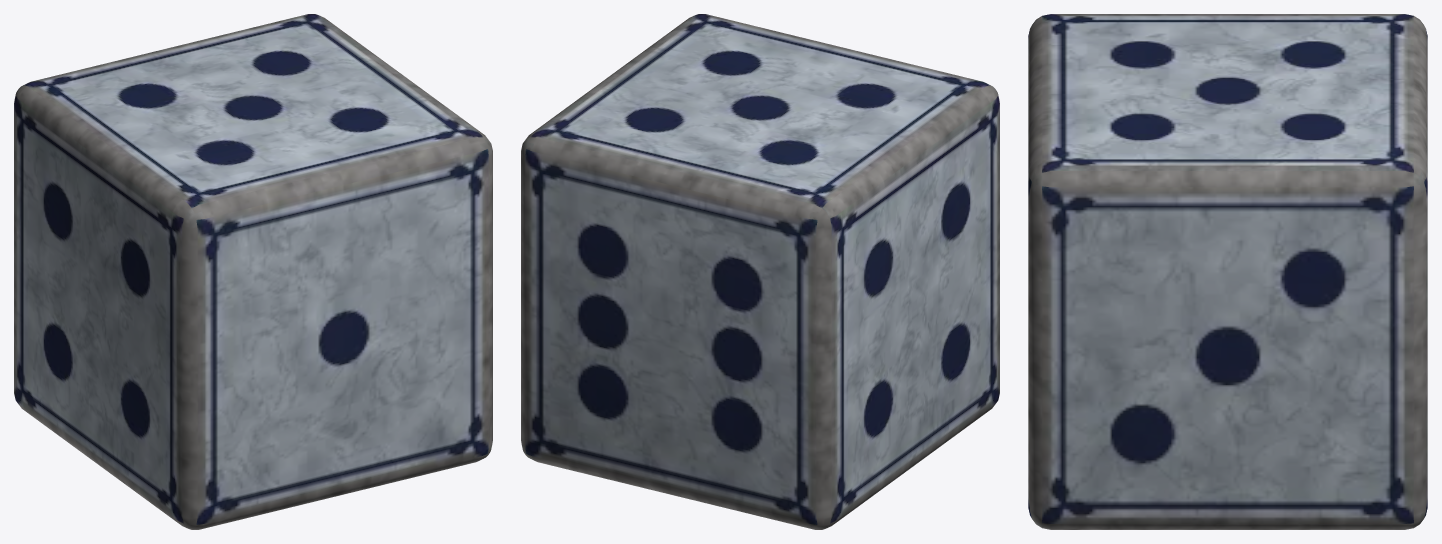
The model's file is nord-d6.glb.
3 renders of one model, left to right at view 1: azimuth 30°, elevation 25°; view 2: azimuth 150°, elevation 25°; view 3: azimuth 270°, elevation 25°, orthographic. The views are drawn at different scales.
Visible parts, largest first — view 1: nord_d6; view 2: nord_d6; view 3: nord_d6.
Boxes of the visible parts, bbox=[...] form: nord_d6: bbox=[14, 14, 492, 529]; nord_d6: bbox=[521, 14, 999, 529]; nord_d6: bbox=[1028, 14, 1427, 529].
Bounding box in the file's own units: 1.4 × 1.4 × 1.4.
1 material, 1 textured.
